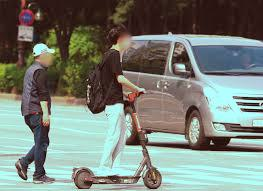nonhelmet: (69, 23, 164, 190)
